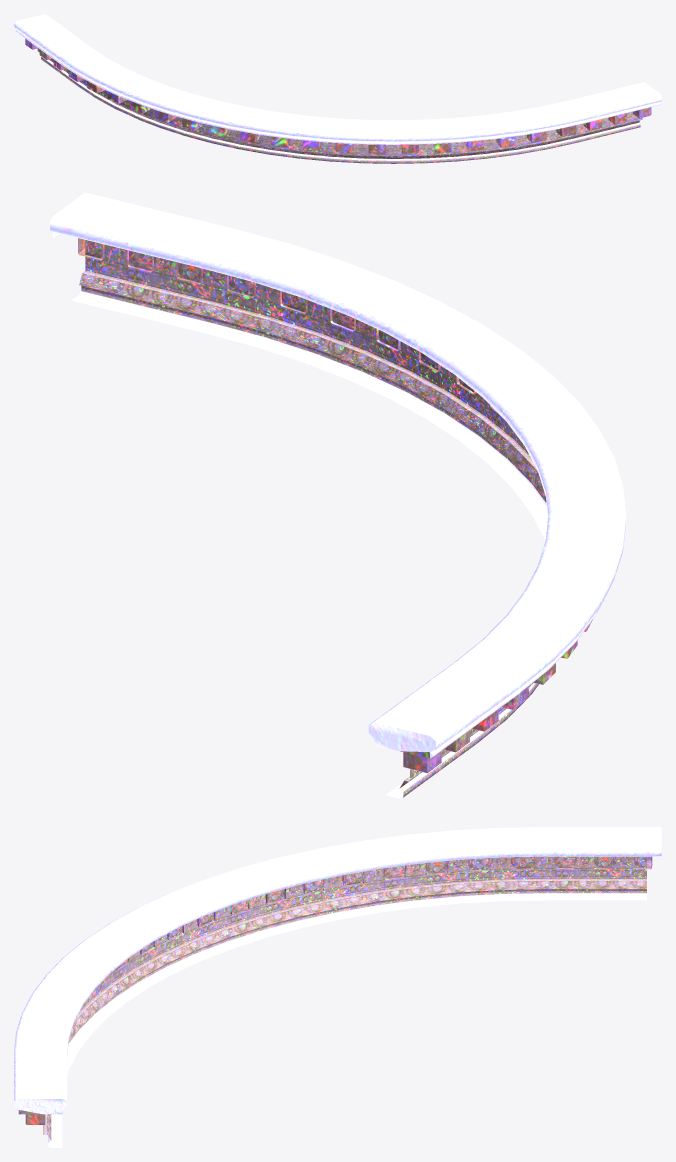
Rendered from trim_crown_corner_small_SM.fbx.
3 views of the same model, one above another, from view 1: azimuth 30°, elevation 25°; view 2: azimuth 150°, elevation 25°; view 3: azimuth 270°, elevation 25° (orthographic). The views are drawn at different scales.
Visible parts, largest first — view 1: trim_crown_corner_small_SM_LOD0; view 2: trim_crown_corner_small_SM_LOD0; view 3: trim_crown_corner_small_SM_LOD0.
Boxes of the visible parts, x1,y1,x2,y2 form: trim_crown_corner_small_SM_LOD0: (14,14,661,163); trim_crown_corner_small_SM_LOD0: (50,192,625,798); trim_crown_corner_small_SM_LOD0: (14,827,661,1147).
Size of the model in its own units: 1068 by 1068 by 100.
Materials: 3 (2 with a texture image).
